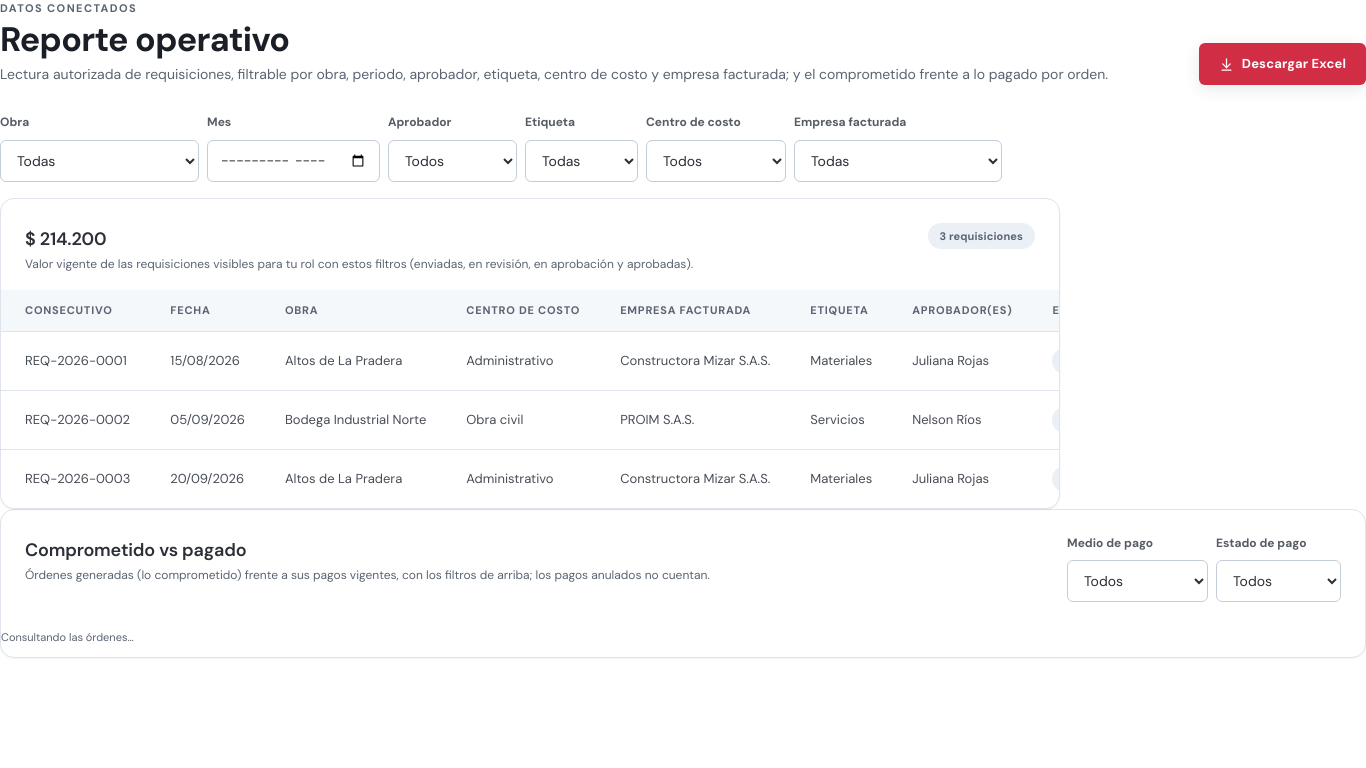
Scenario: RF-1301: filtros de Reportes mandan los parámetros correctos (pantalla + descarga) › filtra por centro de costo ocultando filas de otros centros, y el enlace de descarga lleva costCenterId
The image size is (1366, 768).
Select "Administrativo" in the dropdown labelled "Centro de costo" at coordinates (716, 161), box [646, 140, 786, 182]
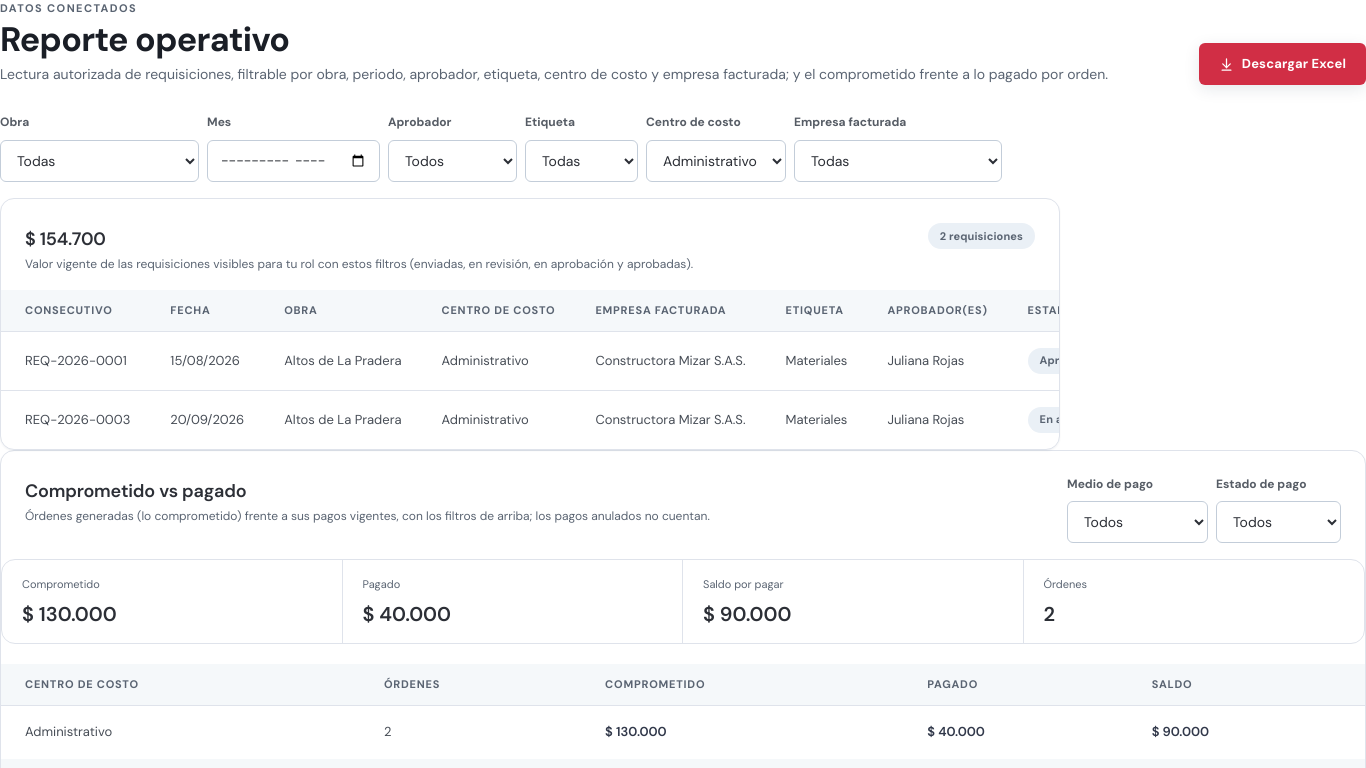
expect the text "REQ-2026-0001" is shown: met, box [1, 331, 150, 390]
expect the text "REQ-2026-0002" is gone: met
